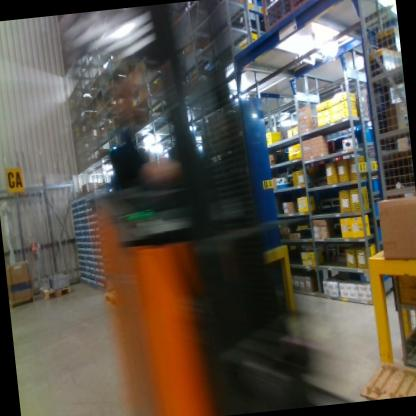forklift: (56, 0, 374, 416)
pallet: (37, 280, 72, 306)
